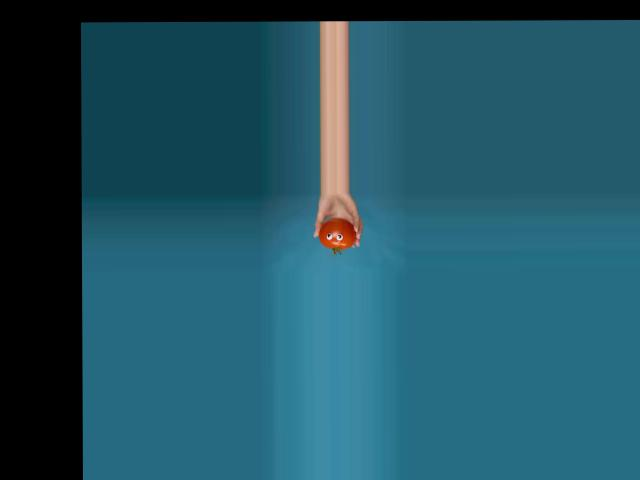tomato: (318, 217, 356, 249)
